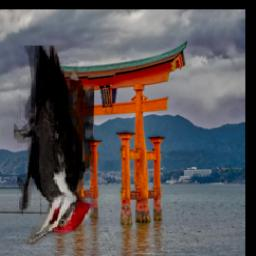Woodpecker: (14, 46, 94, 245)
